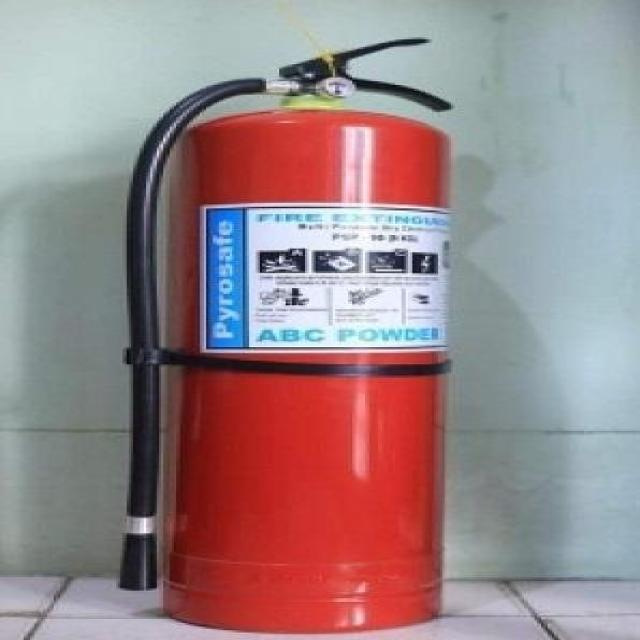fire_extinguisher: (105, 31, 466, 639)
